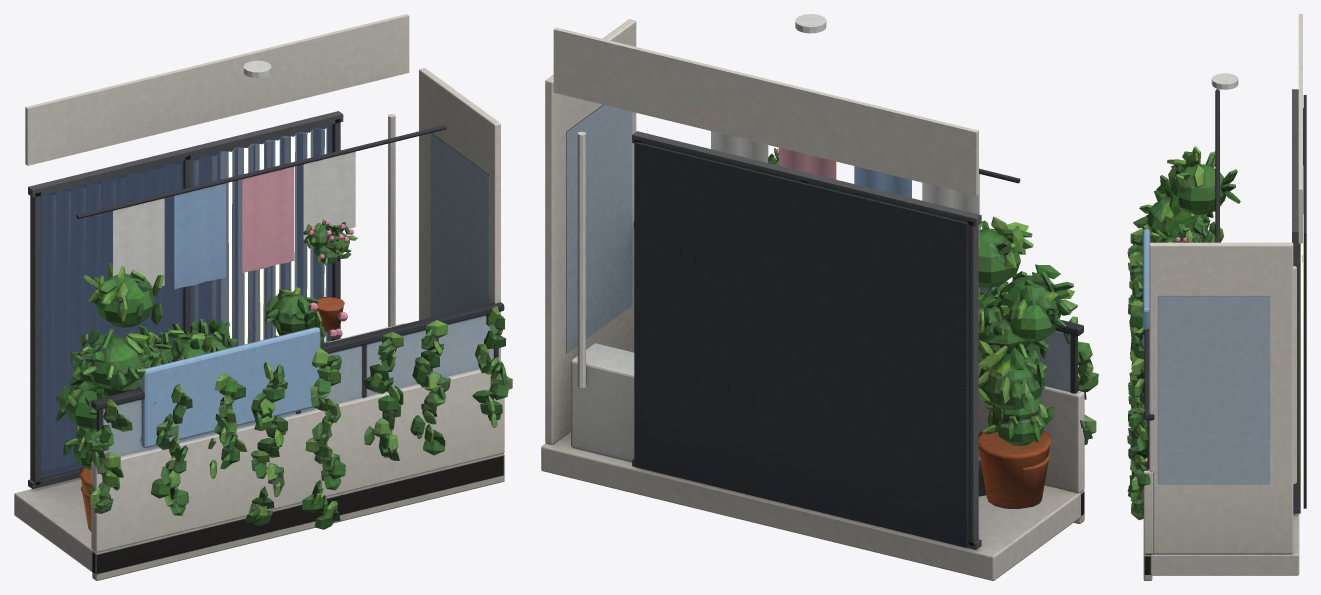
Rendered from balcony.glb.
The picture shows the model from 3 angles, left to right: view 1: azimuth 30°, elevation 25°; view 2: azimuth 150°, elevation 25°; view 3: azimuth 270°, elevation 25°; orthographic projection. The views are drawn at different scales.
Visible parts, largest first — view 1: bay_dark_laundry, bay_lit_ivy, bay_dark_plain, bay_lit_plants; view 2: bay_dark_laundry, bay_lit_ivy, bay_lit_plants; view 3: bay_dark_laundry, bay_lit_ivy, bay_lit_plants.
Boxes of the visible parts, box(x1,y1,x2,y2) form: bay_dark_laundry: box(14, 14, 504, 580); bay_lit_ivy: box(55, 127, 512, 529); bay_dark_plain: box(41, 125, 331, 477); bay_lit_plants: box(63, 219, 357, 531); bay_dark_laundry: box(541, 14, 1084, 580); bay_lit_ivy: box(978, 216, 1098, 508); bay_lit_plants: box(768, 148, 1066, 508); bay_dark_laundry: box(1142, 14, 1306, 580); bay_lit_ivy: box(1127, 146, 1302, 519); bay_lit_plants: box(1155, 210, 1223, 242).
Size of the model in its own units: 3.08 by 3.07 by 1.21.
5 materials, 4 textured.
